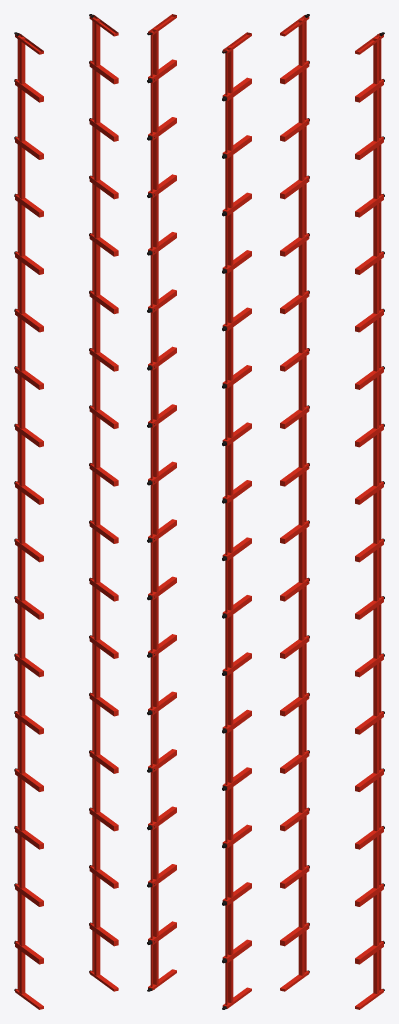
The model's file is road_red.fbx.
3 renders of one model, left to right at view 1: azimuth 30°, elevation 25°; view 2: azimuth 150°, elevation 25°; view 3: azimuth 330°, elevation 25°, orthographic.
Visible parts, largest first — view 1: Cube.002; view 2: Cube.002; view 3: Cube.002.
Part boxes in pixels (x1,y1,x2,y2): Cube.002: (14, 14, 118, 1009); Cube.002: (147, 14, 251, 1009); Cube.002: (280, 14, 384, 1009).
Bounding box in the file's own units: 869 × 10002 × 500.
